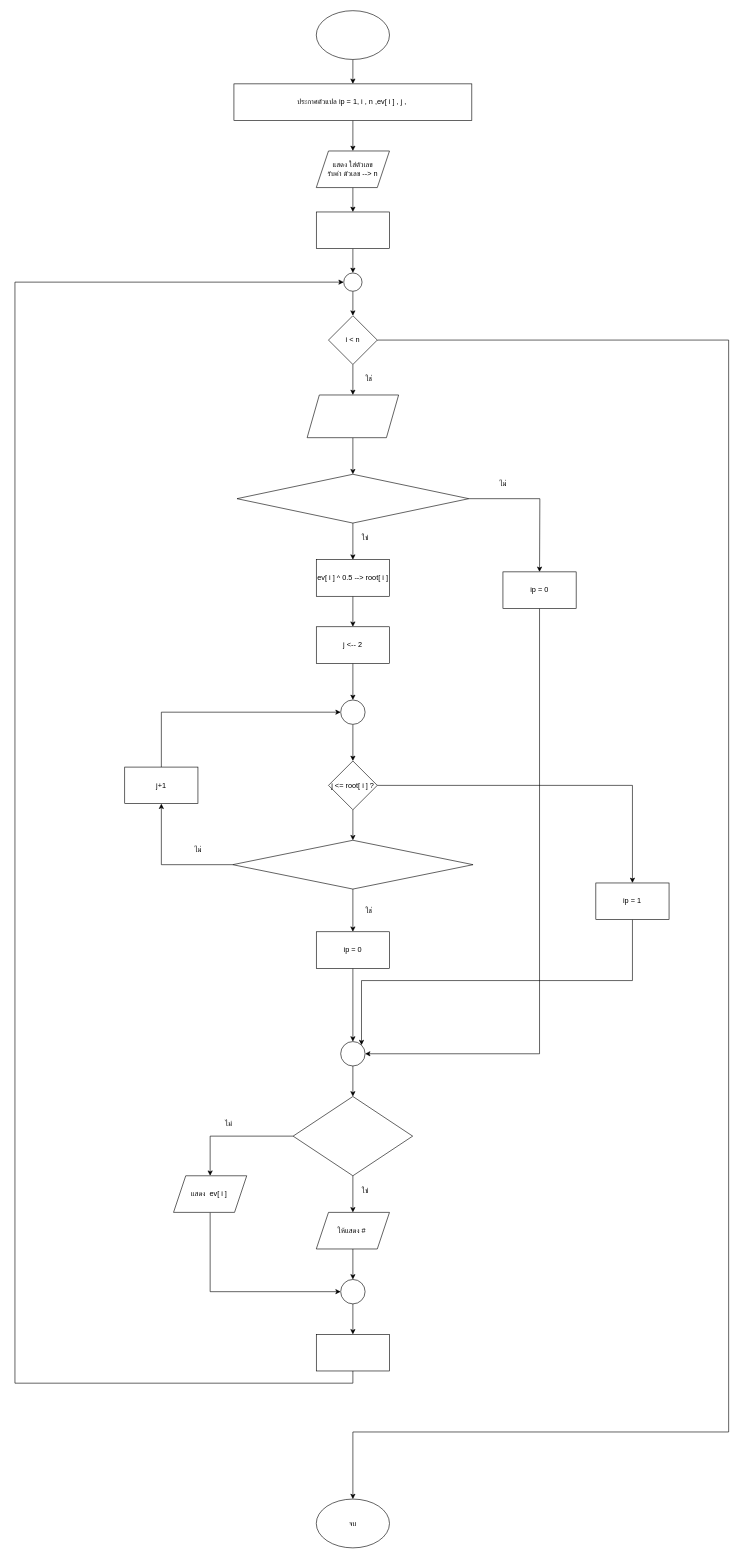
The diagram is 744 pixels wide and 1559 high, and some of its shapes have lost their labels. Each missing label, with the centre of its shape:
"ev[ i ] >= 2 ?" goes at (x=352, y=498).
"ev[ i ] หารเอาเษศ ด้วย j == 0 ?" goes at (x=352, y=864).
"i + 1" goes at (x=352, y=1352).
"i <-- 0" goes at (x=352, y=230).
"ip == 0 ?" goes at (x=352, y=1136).
"เริ่ม" goes at (x=352, y=34).
"แสดง Enter value[ i ] รับค่า ตัวเลข --> ev[ i ]" goes at (x=353, y=416).
